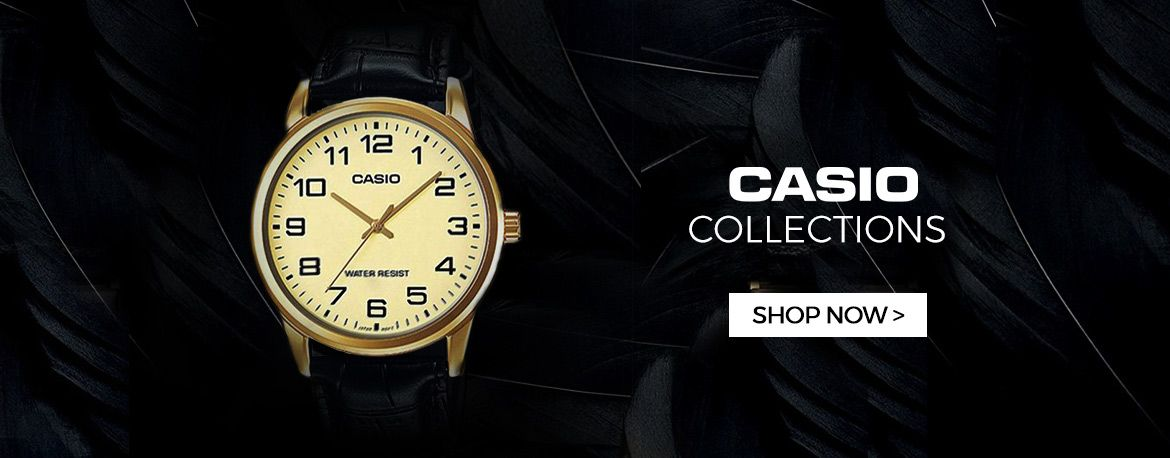clock: (265, 114, 493, 339)
